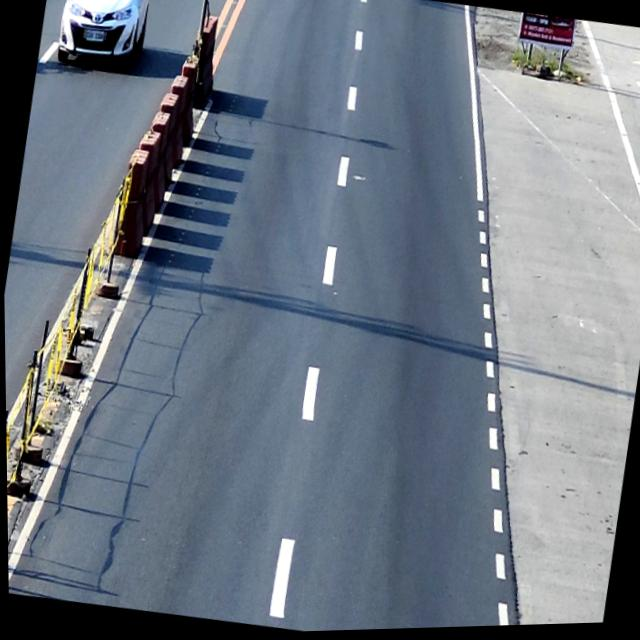Car: (52, 0, 157, 76)
License-Plate: (86, 29, 105, 44)
